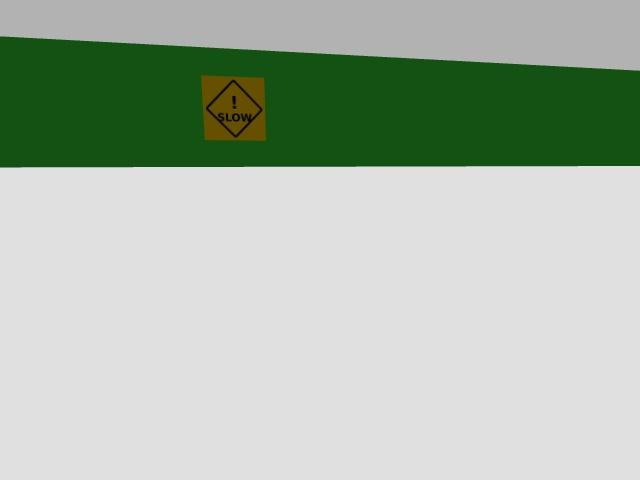slow: (202, 76, 265, 140)
